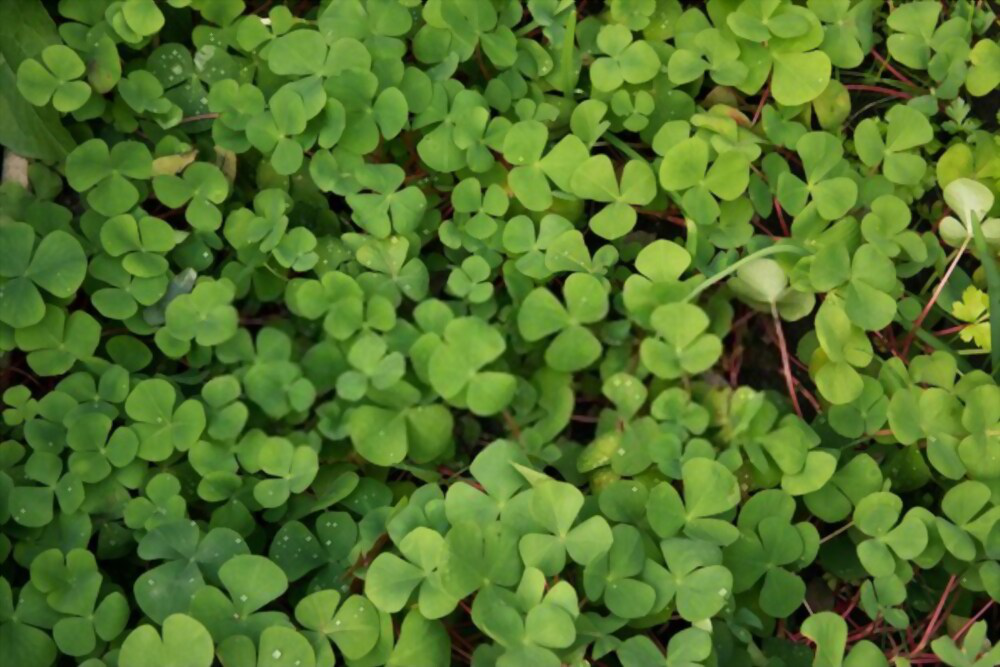clover: (10, 3, 983, 657)
